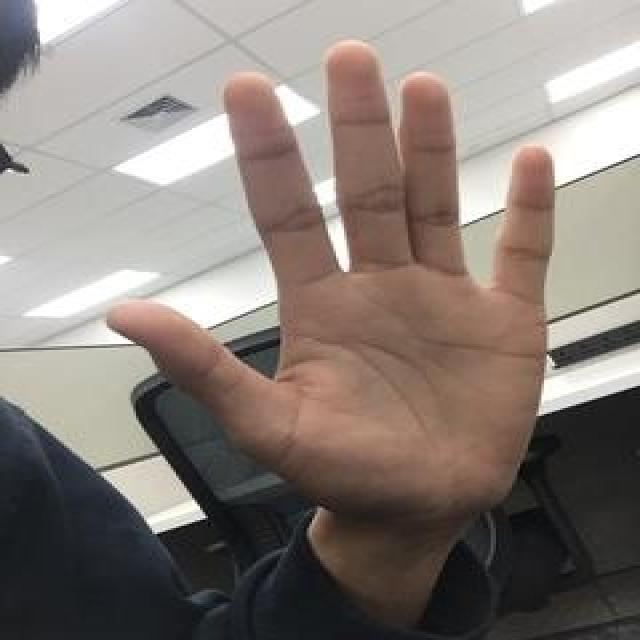hand: (100, 37, 561, 525)
